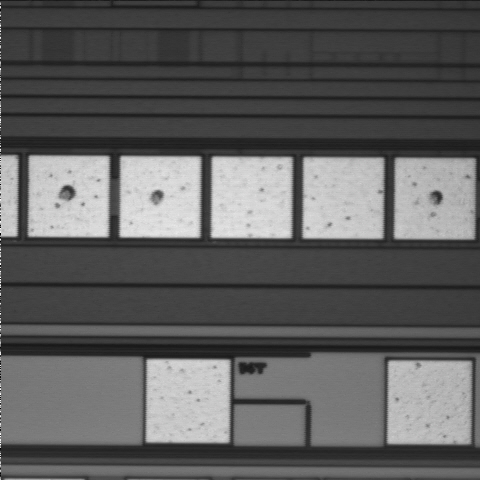pad: (147, 360, 229, 442), (388, 361, 470, 443), (29, 156, 109, 237), (120, 157, 200, 237), (303, 158, 383, 238), (212, 157, 291, 238), (395, 159, 473, 238)
